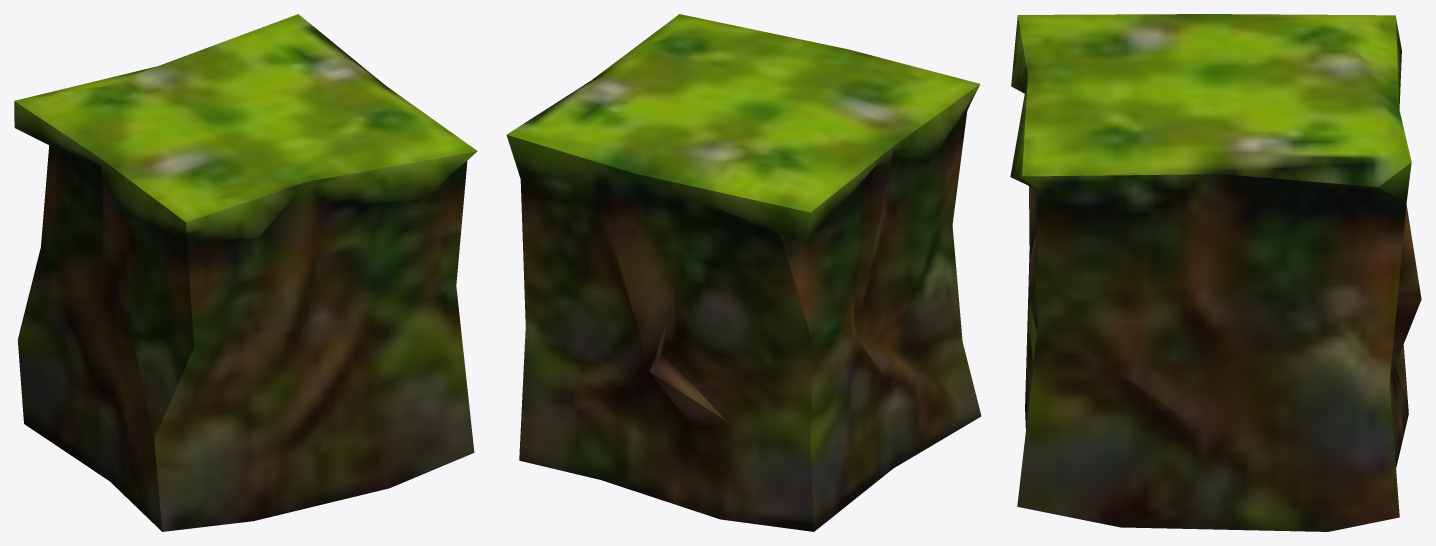
The model's file is b_racines_mur_2_lod1.glb.
3 views of the same model, side by side, from view 1: azimuth 30°, elevation 25°; view 2: azimuth 150°, elevation 25°; view 3: azimuth 270°, elevation 25° (orthographic). The views are drawn at different scales.
Parts seen in each view (by area): view 1: geometry_0; view 2: geometry_0; view 3: geometry_0.
Part boxes in pixels (left/top/right/bottom): geometry_0: left=14, top=14, right=477, bottom=531; geometry_0: left=506, top=14, right=981, bottom=531; geometry_0: left=1010, top=14, right=1421, bottom=531.
Size of the model in its own units: 1 by 0.9927 by 1.
Materials: 1 (1 with a texture image).
